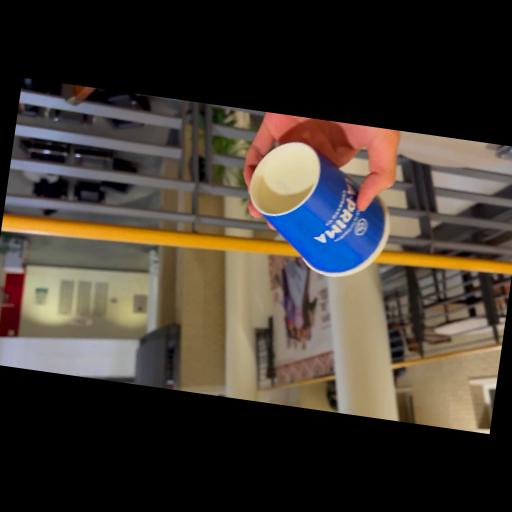lp_paper_cup: (238, 137, 400, 284)
